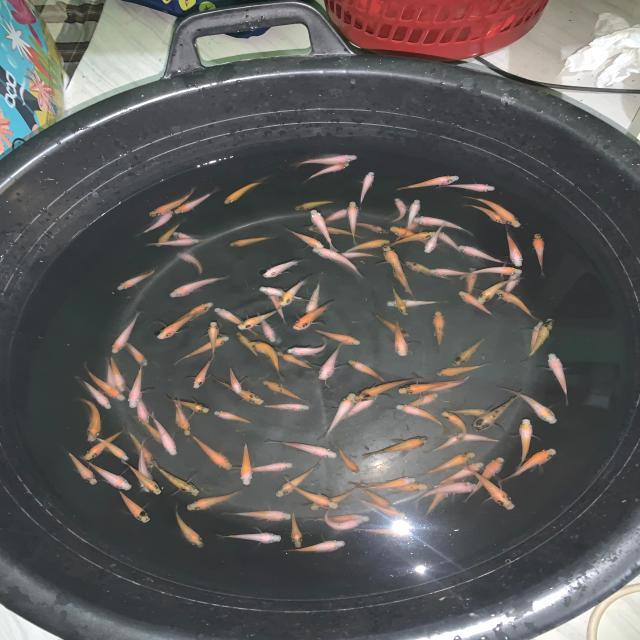nila: (466, 462, 518, 510), (500, 386, 560, 425), (464, 195, 534, 228), (324, 391, 381, 431), (470, 392, 520, 434), (464, 456, 506, 504), (502, 448, 558, 482), (208, 374, 266, 406), (284, 477, 340, 510), (310, 247, 366, 280), (272, 462, 322, 498), (152, 462, 202, 497), (173, 334, 230, 364), (321, 391, 356, 439), (352, 378, 416, 403), (192, 434, 234, 472), (85, 364, 127, 402), (172, 504, 206, 550), (248, 339, 286, 380), (213, 305, 260, 338), (108, 311, 144, 354), (360, 436, 430, 458), (221, 175, 267, 208), (184, 488, 247, 512), (419, 451, 477, 477), (494, 288, 544, 318), (167, 274, 227, 299), (412, 482, 477, 505), (395, 404, 448, 432), (434, 460, 486, 488), (306, 209, 339, 252), (478, 276, 525, 306), (293, 298, 337, 330), (547, 352, 573, 406), (84, 428, 125, 462), (146, 188, 194, 217), (87, 460, 133, 490), (456, 242, 509, 268), (422, 479, 454, 522), (524, 318, 556, 361), (354, 482, 398, 513), (412, 216, 478, 236), (267, 441, 340, 459), (123, 462, 164, 494), (278, 272, 314, 308), (114, 490, 152, 524), (371, 310, 414, 340), (155, 310, 198, 340), (76, 376, 113, 410), (310, 484, 360, 509), (262, 379, 312, 404), (126, 428, 155, 471), (174, 188, 220, 215), (403, 260, 453, 284), (390, 224, 438, 249), (381, 246, 411, 286), (393, 174, 459, 192), (346, 356, 388, 384), (292, 151, 358, 168), (66, 451, 98, 486), (151, 416, 179, 456), (136, 209, 176, 237), (462, 202, 510, 225), (76, 396, 100, 442), (318, 343, 346, 382), (92, 436, 132, 462), (254, 284, 315, 301), (279, 540, 353, 554), (359, 498, 406, 520), (238, 308, 281, 332), (303, 162, 352, 183), (452, 338, 487, 367), (421, 433, 467, 455), (168, 301, 214, 323), (221, 508, 293, 522), (458, 290, 494, 318), (502, 226, 526, 268), (132, 443, 152, 493), (115, 268, 156, 292), (217, 530, 287, 544), (280, 226, 322, 249), (494, 272, 524, 304), (304, 206, 352, 226), (388, 230, 441, 248), (226, 230, 279, 248), (126, 362, 146, 409), (136, 417, 168, 446), (304, 274, 325, 318), (324, 508, 370, 528), (421, 374, 472, 392), (398, 380, 459, 395), (307, 224, 368, 239), (315, 328, 363, 347), (391, 264, 416, 300), (458, 265, 526, 278), (422, 220, 448, 254), (262, 258, 302, 280), (192, 354, 217, 389), (234, 331, 264, 360), (356, 480, 428, 492), (436, 362, 490, 378), (532, 230, 550, 278), (286, 338, 334, 356), (518, 417, 534, 470), (356, 476, 416, 490), (400, 392, 440, 413), (441, 411, 468, 442), (154, 220, 185, 247), (232, 462, 295, 475), (266, 291, 290, 325), (336, 444, 362, 474), (342, 238, 394, 253), (167, 394, 210, 412), (392, 316, 410, 358), (204, 320, 222, 362), (443, 406, 492, 421), (355, 528, 416, 540), (176, 251, 203, 278), (238, 437, 252, 488), (450, 432, 508, 444), (384, 298, 447, 309), (280, 352, 314, 372), (393, 217, 420, 242), (308, 513, 364, 525), (391, 284, 412, 316), (439, 230, 467, 254), (437, 182, 498, 193), (432, 309, 447, 353), (256, 312, 278, 342), (346, 198, 359, 248), (110, 356, 128, 392), (258, 400, 312, 412), (359, 168, 376, 206), (175, 400, 192, 438), (346, 220, 392, 234), (213, 410, 253, 426), (169, 230, 213, 244), (460, 266, 478, 300), (404, 198, 423, 230), (144, 237, 198, 248), (289, 510, 304, 549), (104, 358, 121, 392), (134, 394, 152, 426), (126, 342, 150, 366), (226, 362, 244, 394), (528, 320, 545, 353), (294, 198, 334, 212), (428, 267, 472, 278), (392, 194, 407, 223), (330, 251, 383, 259), (173, 396, 183, 428)
